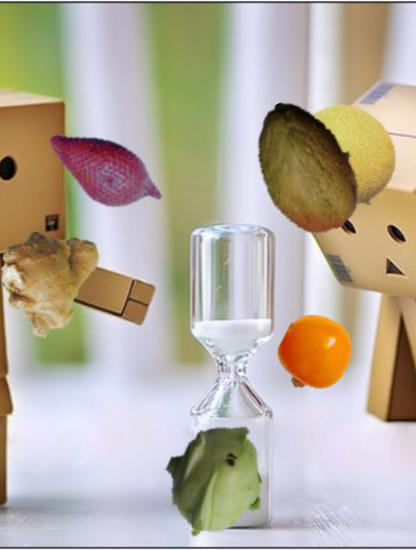Cantaloupe: (288, 102, 400, 214)
Ginger: (2, 229, 107, 334)
Kohlrabi: (154, 418, 279, 543)
Papaya: (237, 98, 375, 236)
Physalis: (275, 315, 355, 395)
Salak: (40, 107, 170, 237)
